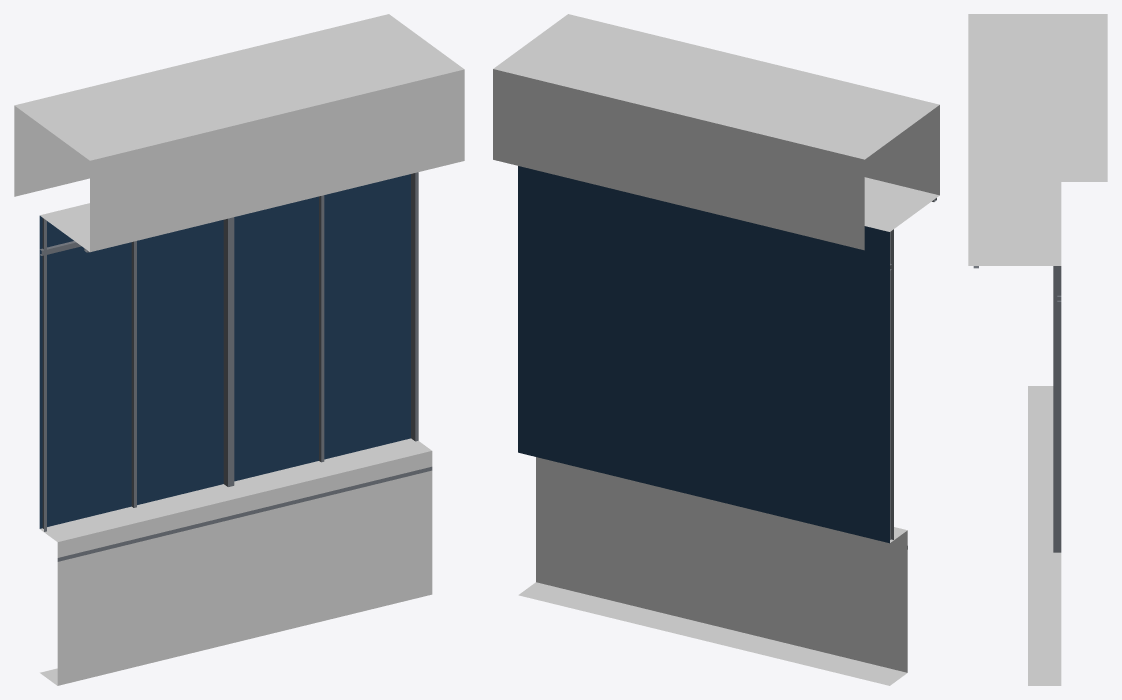
The model's file is top-w1_close.fbx.
3 views of the same model, side by side, from view 1: azimuth 30°, elevation 25°; view 2: azimuth 150°, elevation 25°; view 3: azimuth 270°, elevation 25° (orthographic). The views are drawn at different scales.
Visible parts, largest first — view 1: a2002/400/top-w1_close; view 2: a2002/400/top-w1_close; view 3: a2002/400/top-w1_close.
Part boxes in pixels (x1,y1,x2,y2): a2002/400/top-w1_close: (14,14,464,685); a2002/400/top-w1_close: (493,14,939,685); a2002/400/top-w1_close: (968,14,1107,685).
Bounding box in the file's own units: 3 × 4.2 × 1.05.
